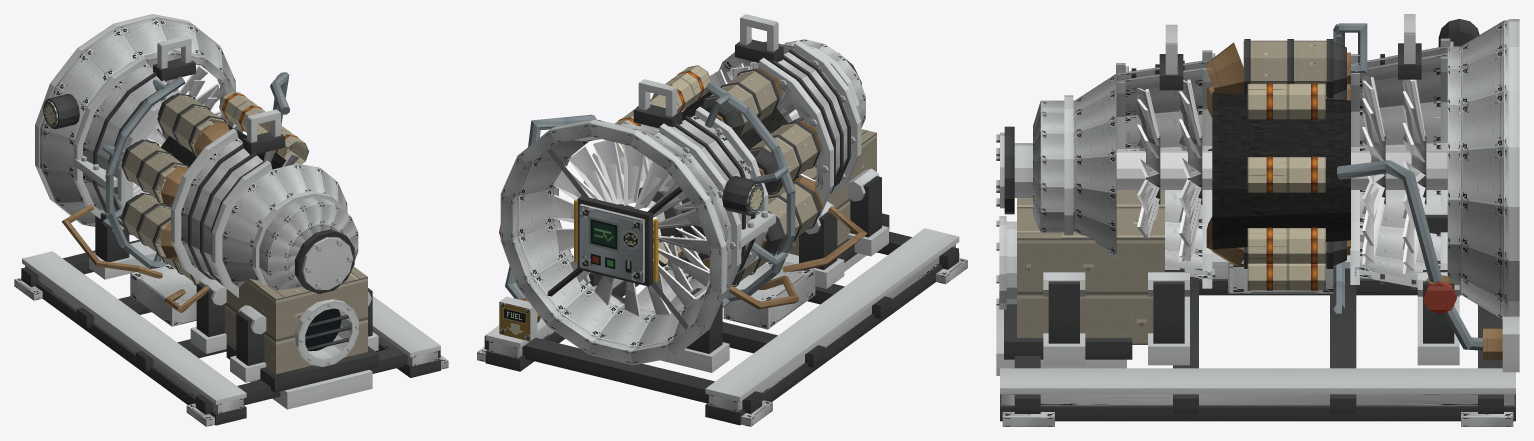
File: large_gas_turbine_cutaway.obj
3 renders of one model, left to right at view 1: azimuth 30°, elevation 25°; view 2: azimuth 150°, elevation 25°; view 3: azimuth 270°, elevation 25°, orthographic. The views are drawn at different scales.
Visible parts, largest first — view 1: skid, intake, rear_bearing, exhaust_collector, combustors, mounts, turbine_bands, compressor_bands, lubrication, turbine_shell, compressor_shell, rear_exhaust (+9 smaller); view 2: intake, skid, rotor, combustors, mounts, turbine_bands, compressor_bands, lubrication, controller, fuel_rail, lifting_eyes, combustion_core (+9 smaller); view 3: skid, combustion_core, intake, exhaust_collector, rotor, rear_bearing, mounts, compressor_shell, combustors, turbine_shell, fuel_pipe, compressor_bands (+9 smaller).
Part boxes in pixels (x1=…): skid: x1=14, y1=240, x2=448, y2=426; intake: x1=35, y1=14, x2=235, y2=226; rear_bearing: x1=222, y1=163, x2=358, y2=290; exhaust_collector: x1=220, y1=266, x2=378, y2=392; combustors: x1=121, y1=93, x2=229, y2=285; mounts: x1=89, y1=213, x2=378, y2=382; turbine_bands: x1=171, y1=128, x2=272, y2=297; compressor_bands: x1=73, y1=55, x2=181, y2=233; lubrication: x1=61, y1=204, x2=210, y2=326; turbine_shell: x1=181, y1=138, x2=263, y2=281; compressor_shell: x1=83, y1=63, x2=175, y2=224; rear_exhaust: x1=295, y1=299, x2=358, y2=366; intake: x1=500, y1=119, x2=731, y2=365; skid: x1=477, y1=228, x2=967, y2=426; rotor: x1=550, y1=62, x2=816, y2=316; combustors: x1=698, y1=68, x2=822, y2=286; mounts: x1=583, y1=168, x2=888, y2=372; turbine_bands: x1=758, y1=40, x2=861, y2=217; compressor_bands: x1=639, y1=106, x2=775, y2=311; lubrication: x1=723, y1=205, x2=867, y2=329; controller: x1=579, y1=204, x2=644, y2=283; fuel_rail: x1=705, y1=81, x2=795, y2=307; lifting_eyes: x1=633, y1=14, x2=783, y2=128; combustion_core: x1=615, y1=65, x2=798, y2=263; skid: x1=1000, y1=252, x2=1515, y2=426; combustion_core: x1=1212, y1=83, x2=1350, y2=290; intake: x1=1447, y1=19, x2=1519, y2=319; exhaust_collector: x1=1004, y1=190, x2=1164, y2=359; rotor: x1=1116, y1=76, x2=1447, y2=273; rear_bearing: x1=1033, y1=73, x2=1116, y2=259; mounts: x1=1043, y1=205, x2=1459, y2=365; compressor_shell: x1=1355, y1=45, x2=1450, y2=287; combustors: x1=1205, y1=39, x2=1350, y2=268; turbine_shell: x1=1116, y1=59, x2=1212, y2=279; fuel_pipe: x1=1337, y1=160, x2=1483, y2=350; compressor_bands: x1=1350, y1=38, x2=1453, y2=289.
Bounding box in the file's own units: 2.86 × 2.74 × 4.
Materials: 1 (1 with a texture image).
